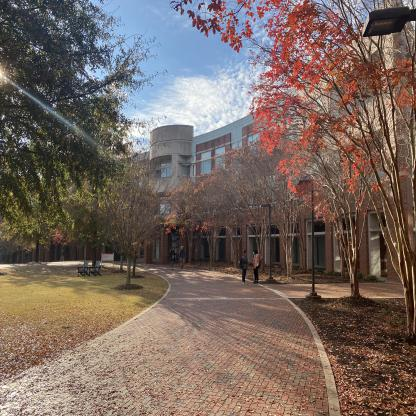EB-1: (39, 111, 416, 271)
